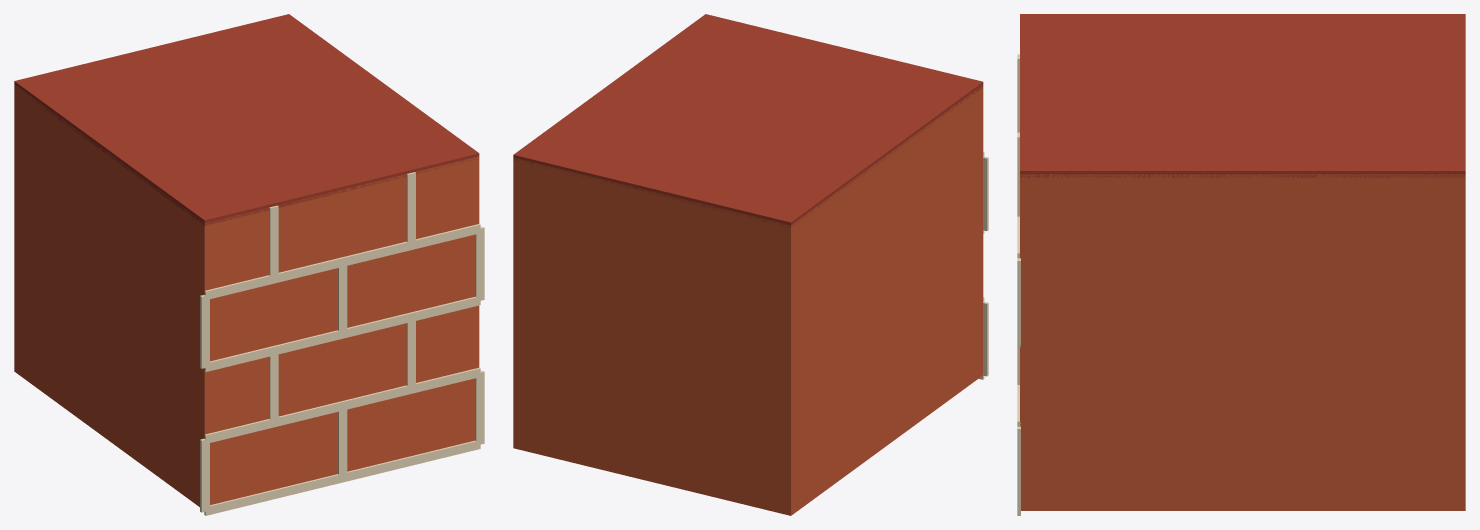
Rendered from brick.glb.
The picture shows the model from 3 angles, left to right: view 1: azimuth 30°, elevation 25°; view 2: azimuth 150°, elevation 25°; view 3: azimuth 270°, elevation 25°; orthographic projection. The views are drawn at different scales.
Parts seen in each view (by area): view 1: Model; view 2: Model; view 3: Model.
Boxes of the visible parts, x1,y1,x2,y2 form: Model: [14, 14, 484, 515]; Model: [513, 14, 988, 515]; Model: [1017, 14, 1465, 515].
Bounding box in the file's own units: 1.03 × 1.02 × 1.21.
1 material, 1 textured.
